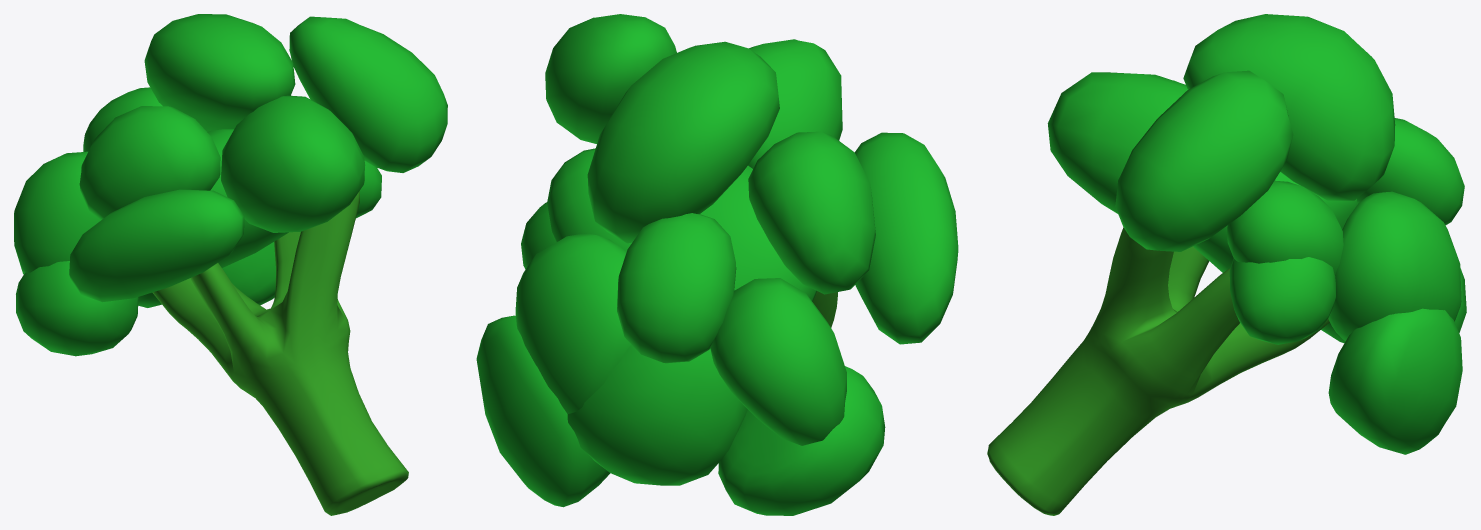
The model's file is cauliflower.glb.
The picture shows the model from 3 angles, left to right: view 1: azimuth 30°, elevation 25°; view 2: azimuth 150°, elevation 25°; view 3: azimuth 270°, elevation 25°; orthographic projection. The views are drawn at different scales.
Visible parts, largest first — view 1: head, foot; view 2: head, foot; view 3: head, foot.
Part boxes in pixels (x1,y1,x2,y2): head: (14,14,447,356); foot: (152,191,408,515); head: (476,14,958,515); foot: (813,291,837,327); head: (1047,14,1466,454); foot: (987,227,1329,515).
Size of the model in its own units: 0.5819 by 0.6746 by 0.6252.
